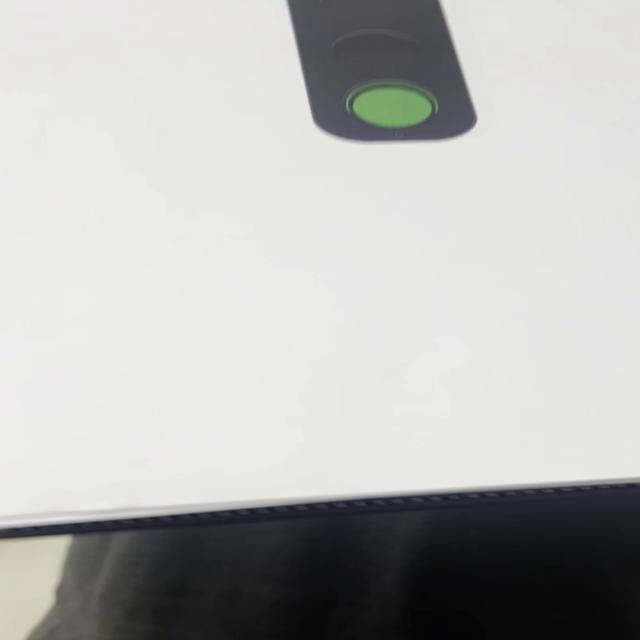green: (286, 1, 480, 141)
